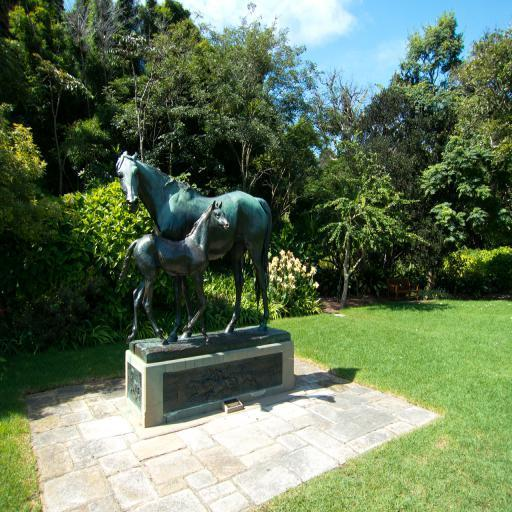horse: (117, 196, 231, 348)
